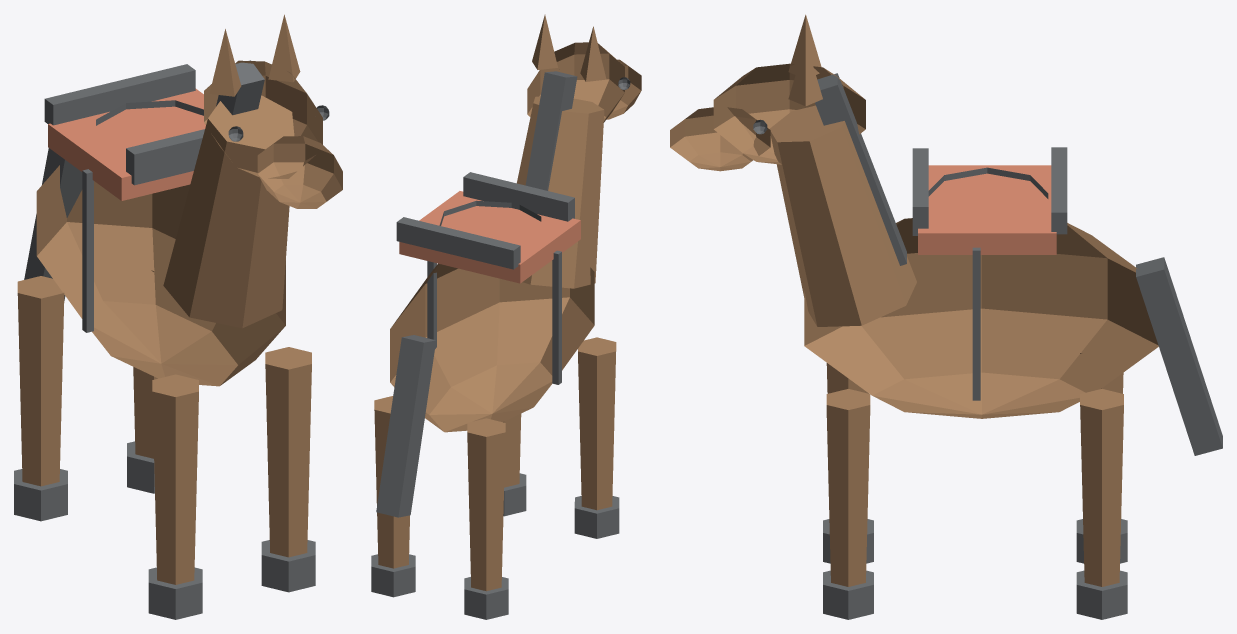
Rendered from frontier-saddle-horse.glb.
3 renders of one model, left to right at view 1: azimuth 30°, elevation 25°; view 2: azimuth 150°, elevation 25°; view 3: azimuth 270°, elevation 25°, orthographic. The views are drawn at different scales.
Visible parts, largest first — view 1: frontier-post-saddle-horse; view 2: frontier-post-saddle-horse; view 3: frontier-post-saddle-horse.
Part boxes in pixels (<box>): frontier-post-saddle-horse: <box>14,14,342,619</box>; frontier-post-saddle-horse: <box>371,14,641,619</box>; frontier-post-saddle-horse: <box>670,14,1222,619</box>.
Bounding box in the file's own units: 0.68 × 2.29 × 2.07.
